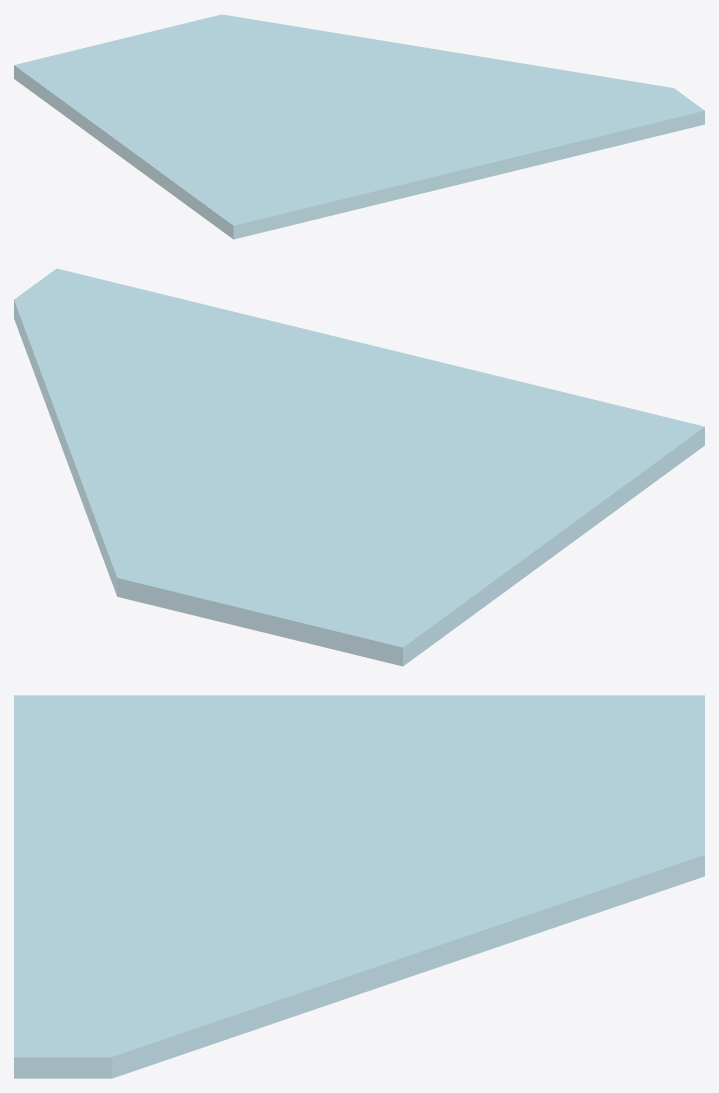
Rendered from 20Patriot.gltf.
3 views of the same model, one above another, from view 1: azimuth 30°, elevation 25°; view 2: azimuth 150°, elevation 25°; view 3: azimuth 270°, elevation 25° (orthographic). The views are drawn at different scales.
Bounding box in the file's own units: 71.9 × 2 × 58.
